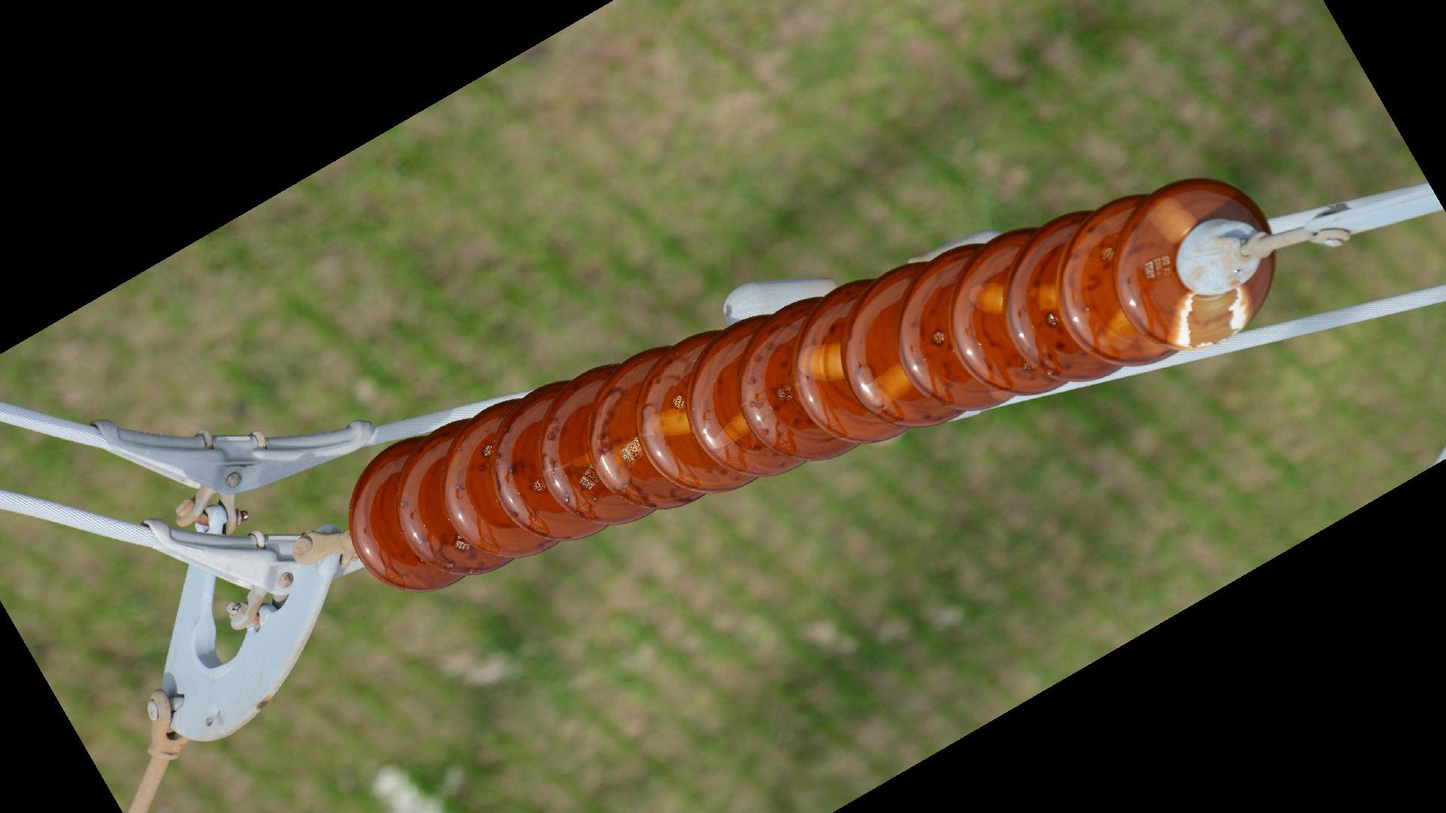insulator: (340, 172, 1282, 598)
insulator_flashover: (1182, 286, 1246, 349), (1142, 192, 1198, 245), (862, 361, 914, 409), (793, 340, 846, 385), (1095, 306, 1140, 356), (639, 406, 691, 443), (709, 411, 752, 455), (965, 278, 1005, 316)
